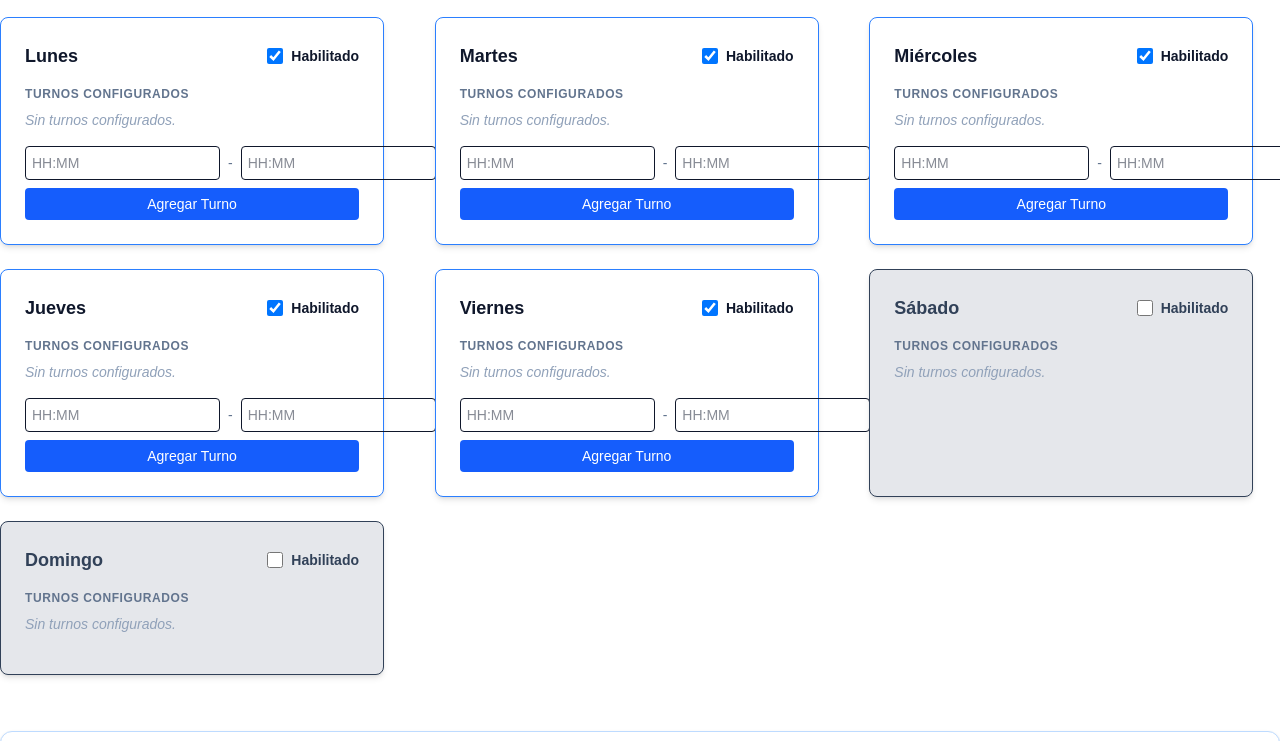
Test case: US_001: Deshabilitar/habilitar días de trabajo (Global) › Escenario 5: Guardado sin cambios pendientes, el día vuelve a su estado original (Martes)
The image size is (1280, 741).
Click the checkbox with test id "dia-checkbox-martes": (710, 56) x1=702 y1=48 x2=718 y2=64
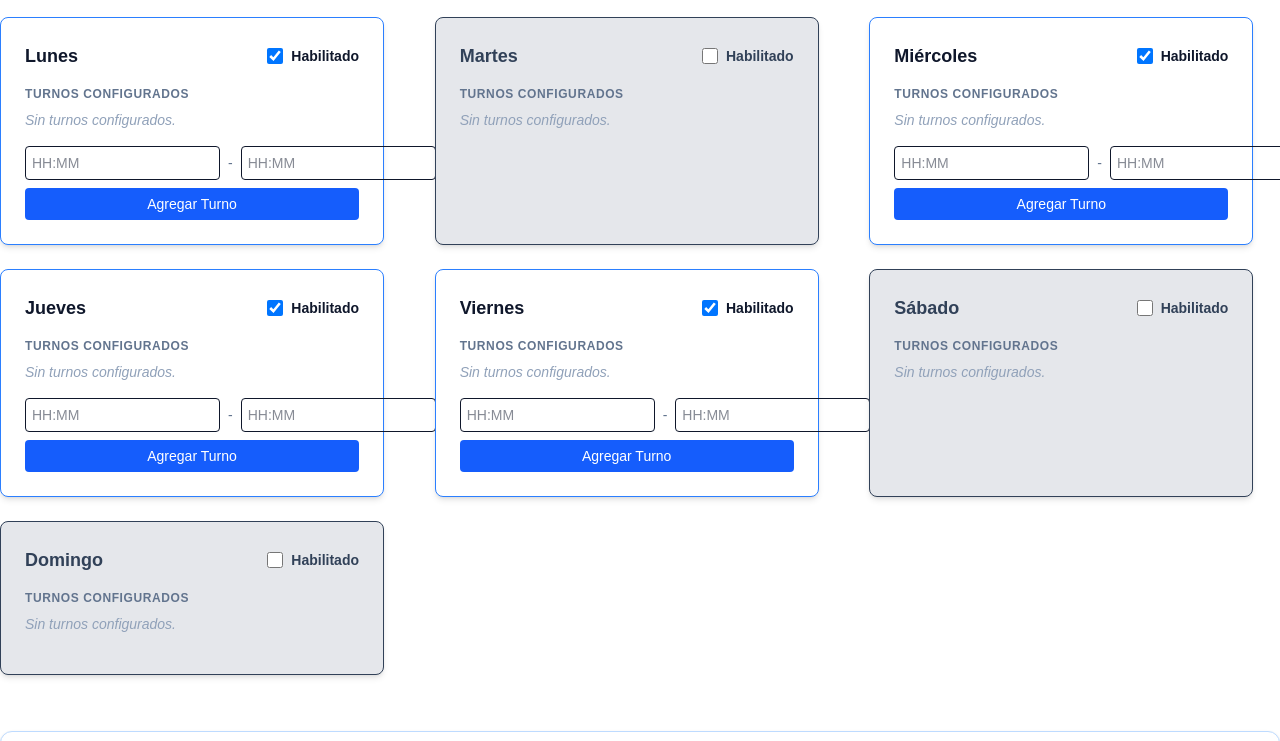
Now the element with test id "dia-contenedor-martes" has class "bg-gray-200", box x1=435 y1=17 x2=819 y2=245
Now the checkbox with test id "dia-checkbox-martes" is not checked
Click the checkbox with test id "dia-checkbox-martes": (710, 56) x1=702 y1=48 x2=718 y2=64
(page scrolled)
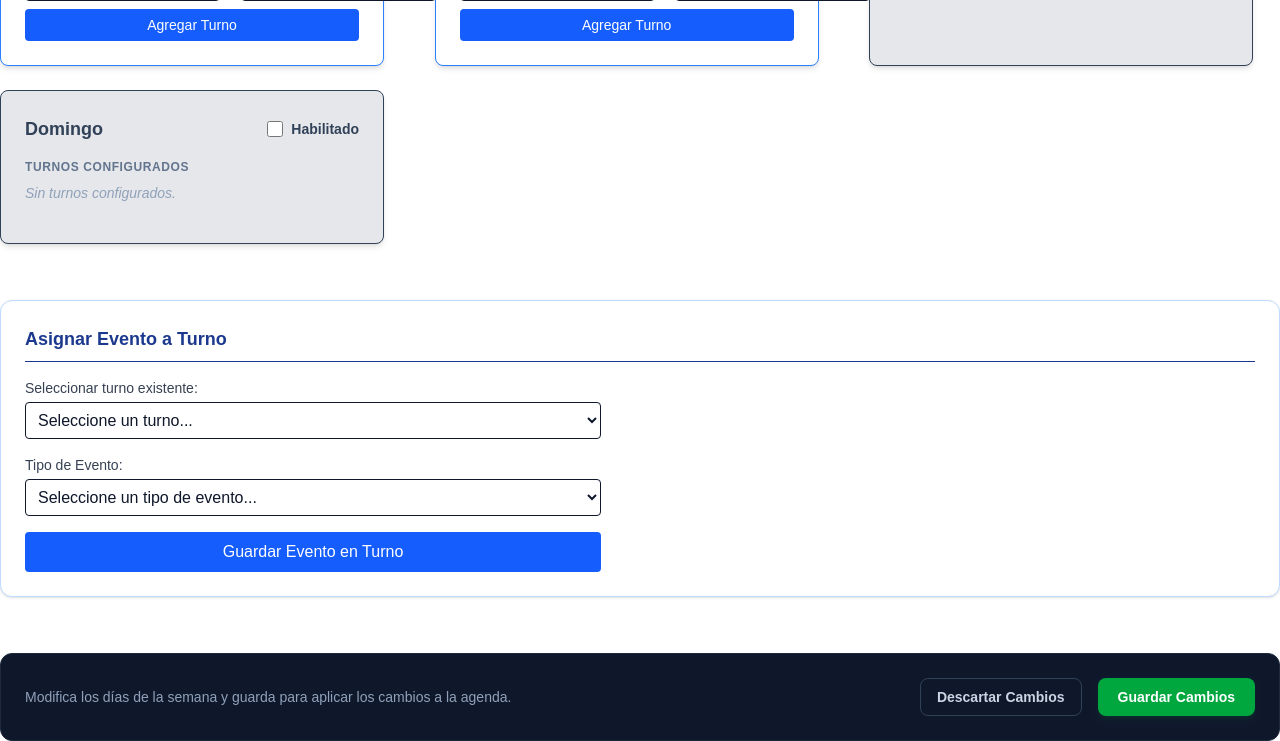
Se intenta guardar sin cambios reales.
Click the button with test id "btn-guardar-global": (1176, 697) x1=1098 y1=678 x2=1255 y2=716
(page scrolled)
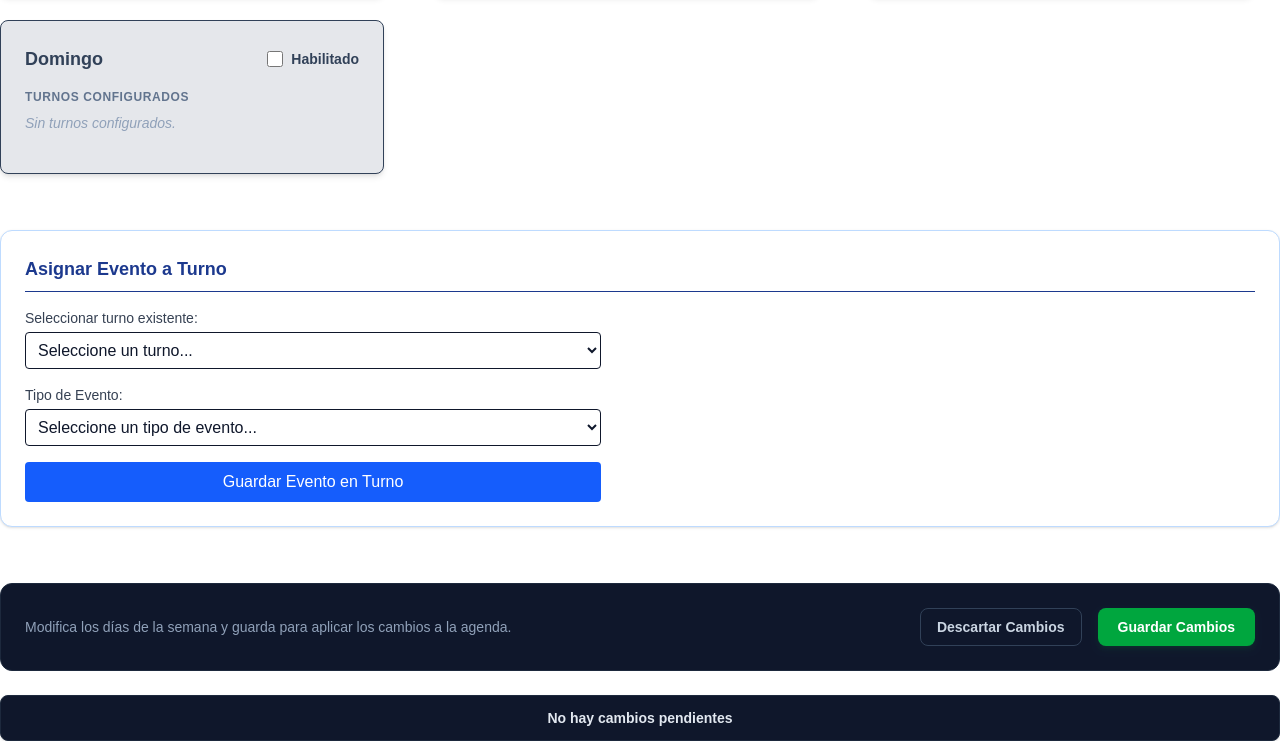
Now the text with test id "mensaje-alerta-global" reads "No hay cambios pendientes", box x1=547 y1=710 x2=733 y2=726
